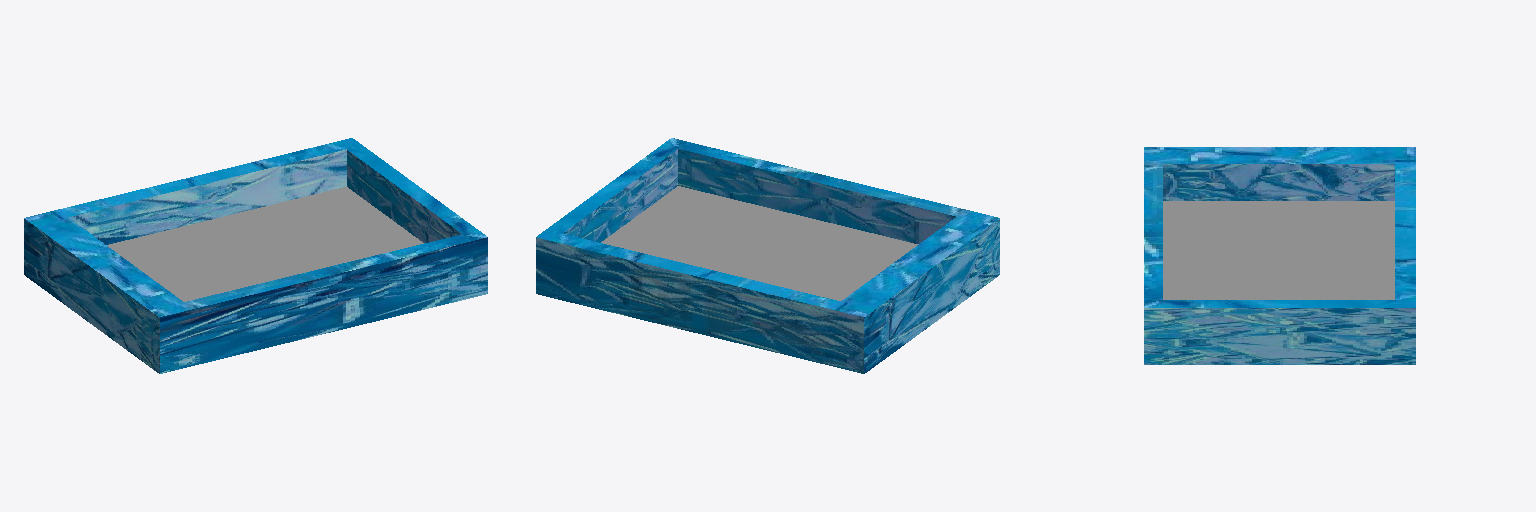
The picture shows the model from 3 angles: view 1: azimuth 30°, elevation 25°; view 2: azimuth 150°, elevation 25°; view 3: azimuth 270°, elevation 25°; orthographic projection.
Parts seen in each view (by area): view 1: Cube; view 2: Cube; view 3: Cube.
Part boxes in pixels (bbox=[...]): Cube: bbox=[24, 138, 487, 373]; Cube: bbox=[536, 138, 999, 373]; Cube: bbox=[1144, 147, 1415, 364].
Size of the model in its own units: 15.57 by 2.57 by 11.15.
Materials: 4 (1 with a texture image).